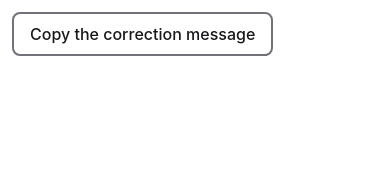
CopyButton › only explains the long press when it has no text on the screen to select
The image size is (368, 172).
Click the button "Copy the correction message".
click(143, 34)  # box [12,12,273,56]
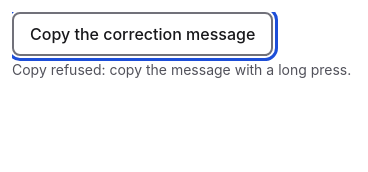
Now the message reads "Copy refused: copy the message with a long press.", box [12,61,351,78]
